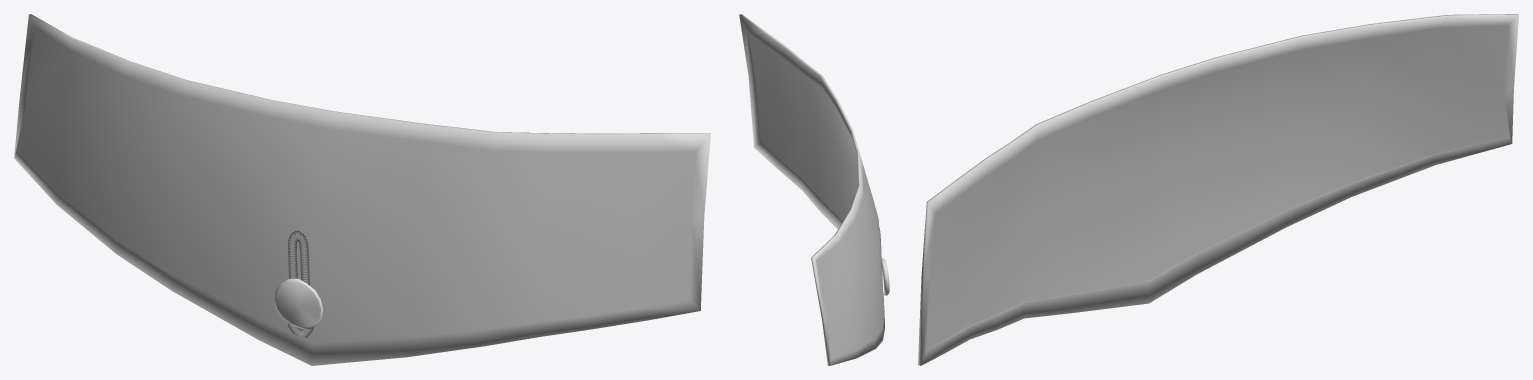
File: single_welted_pocket_with_flap_&_button.glb
The picture shows the model from 3 angles, left to right: view 1: azimuth 30°, elevation 25°; view 2: azimuth 150°, elevation 25°; view 3: azimuth 270°, elevation 25°; orthographic projection. The views are drawn at different scales.
Visible parts, largest first — view 1: SM_T_Right_welted_flap_pocket, SM_T_B_Right_pocket; view 2: SM_T_Right_welted_flap_pocket, SM_T_B_Right_pocket; view 3: SM_T_Right_welted_flap_pocket.
Boxes of the visible parts, x1,y1,x2,y2 form: SM_T_Right_welted_flap_pocket: (14, 14, 710, 365); SM_T_B_Right_pocket: (274, 230, 323, 337); SM_T_Right_welted_flap_pocket: (739, 14, 884, 365); SM_T_B_Right_pocket: (879, 228, 889, 299); SM_T_Right_welted_flap_pocket: (918, 14, 1518, 365).
Bounding box in the file's own units: 0.4769 × 0.2709 × 0.6088.
Materials: 3 (1 with a texture image).
